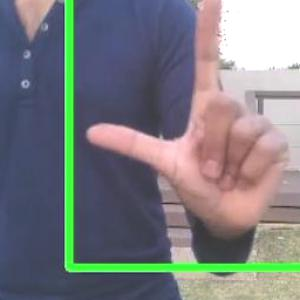land_hand: (73, 0, 299, 250)
